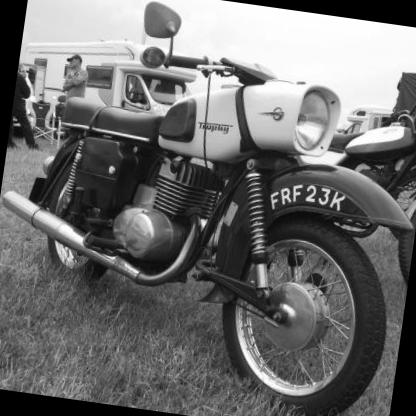moto: (14, 38, 416, 395)
